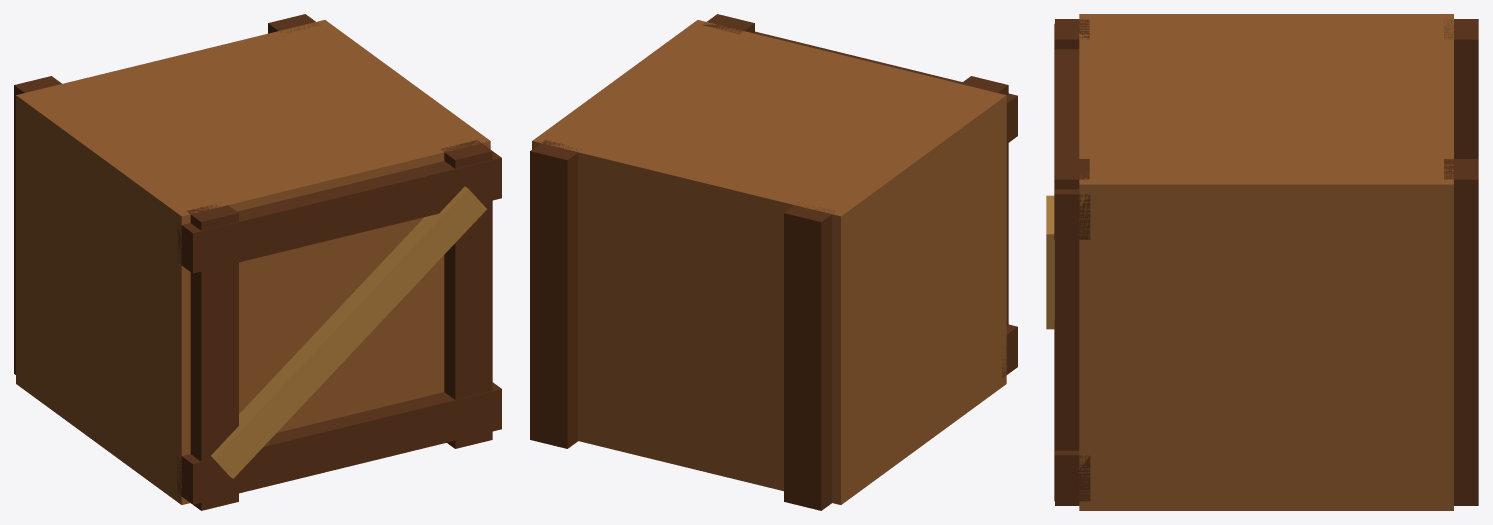
The model's file is crate.fbx.
3 renders of one model, left to right at view 1: azimuth 30°, elevation 25°; view 2: azimuth 150°, elevation 25°; view 3: azimuth 270°, elevation 25°, orthographic. The views are drawn at different scales.
Parts seen in each view (by area): view 1: crate; view 2: crate; view 3: crate.
Part boxes in pixels (x1=…): crate: x1=14, y1=14, x2=501, y2=510; crate: x1=530, y1=14, x2=1017, y2=510; crate: x1=1046, y1=14, x2=1478, y2=510.
Size of the model in its own units: 0.56 by 0.5 by 0.6.
